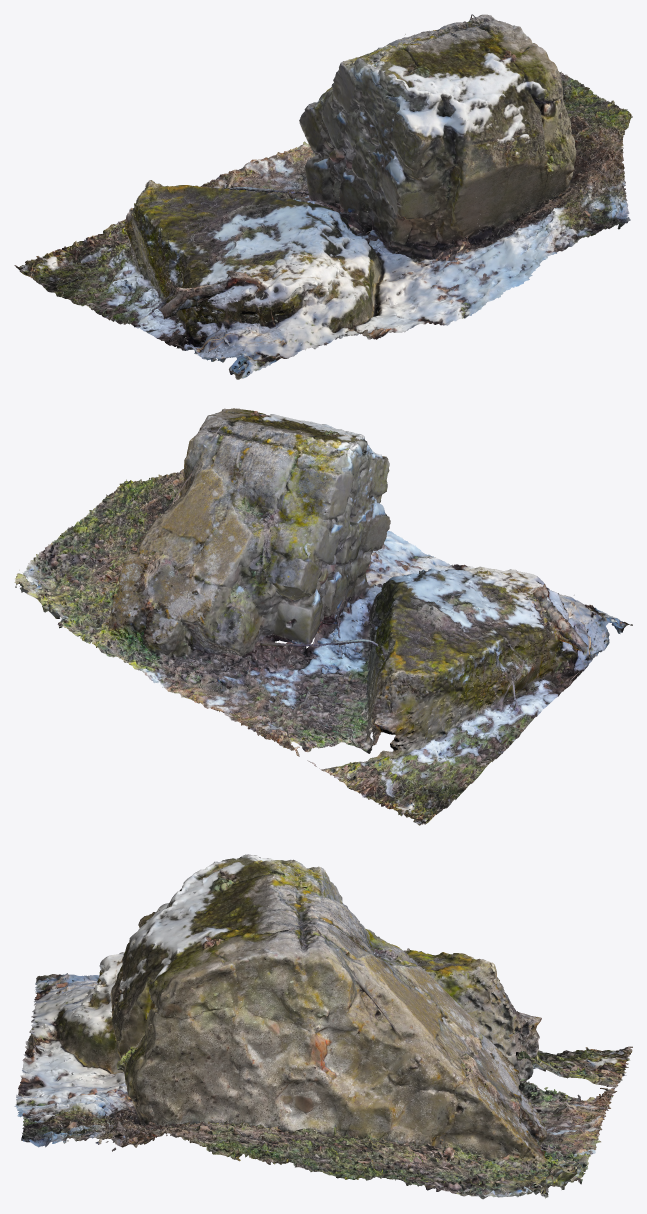
Rendered from sf-3d-scan-snow-rocks-b884fc.glb.
3 views of the same model, one above another, from view 1: azimuth 30°, elevation 25°; view 2: azimuth 150°, elevation 25°; view 3: azimuth 270°, elevation 25° (orthographic). The views are drawn at different scales.
Parts seen in each view (by area): view 1: Object_2, Object_4, Object_6, Object_8; view 2: Object_4, Object_6, Object_8, Object_2; view 3: Object_2, Object_6, Object_8, Object_4.
Boxes of the visible parts, x1,y1,x2,y2 form: Object_2: (30,14,630,350); Object_4: (44,14,629,324); Object_6: (113,59,627,379); Object_8: (14,14,632,340); Object_4: (33,426,566,811); Object_6: (15,466,632,779); Object_8: (14,428,563,825); Object_2: (19,408,587,817); Object_2: (14,854,616,1185); Object_6: (34,866,619,1199); Object_8: (20,895,632,1197); Object_4: (21,902,628,1196).
Bounding box in the file's own units: 9.72 × 5 × 7.86.
Materials: 4 (4 with a texture image).
